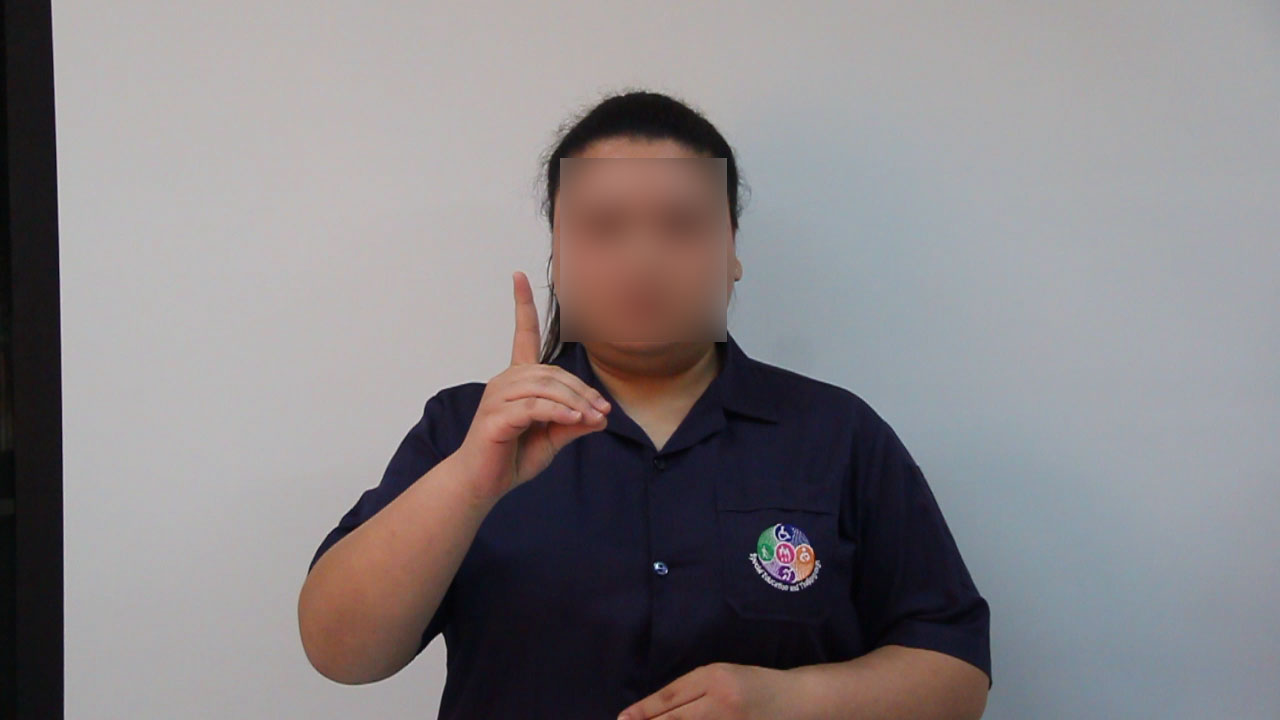dor: (457, 263, 621, 498)
